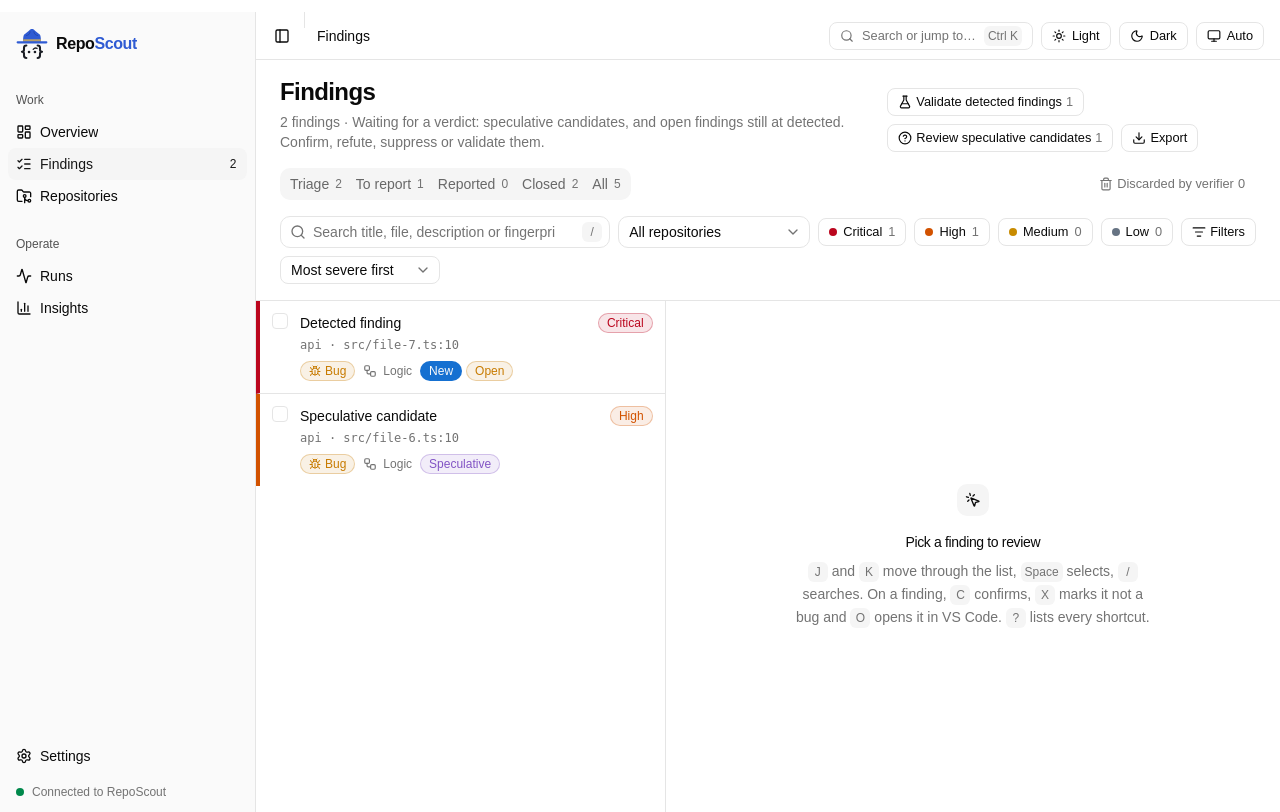
keyboard shortcuts on a finding › leaves letters typed in the search box alone
Click the search field named "Search findings".
click(445, 232)  # box [280,216,610,248]
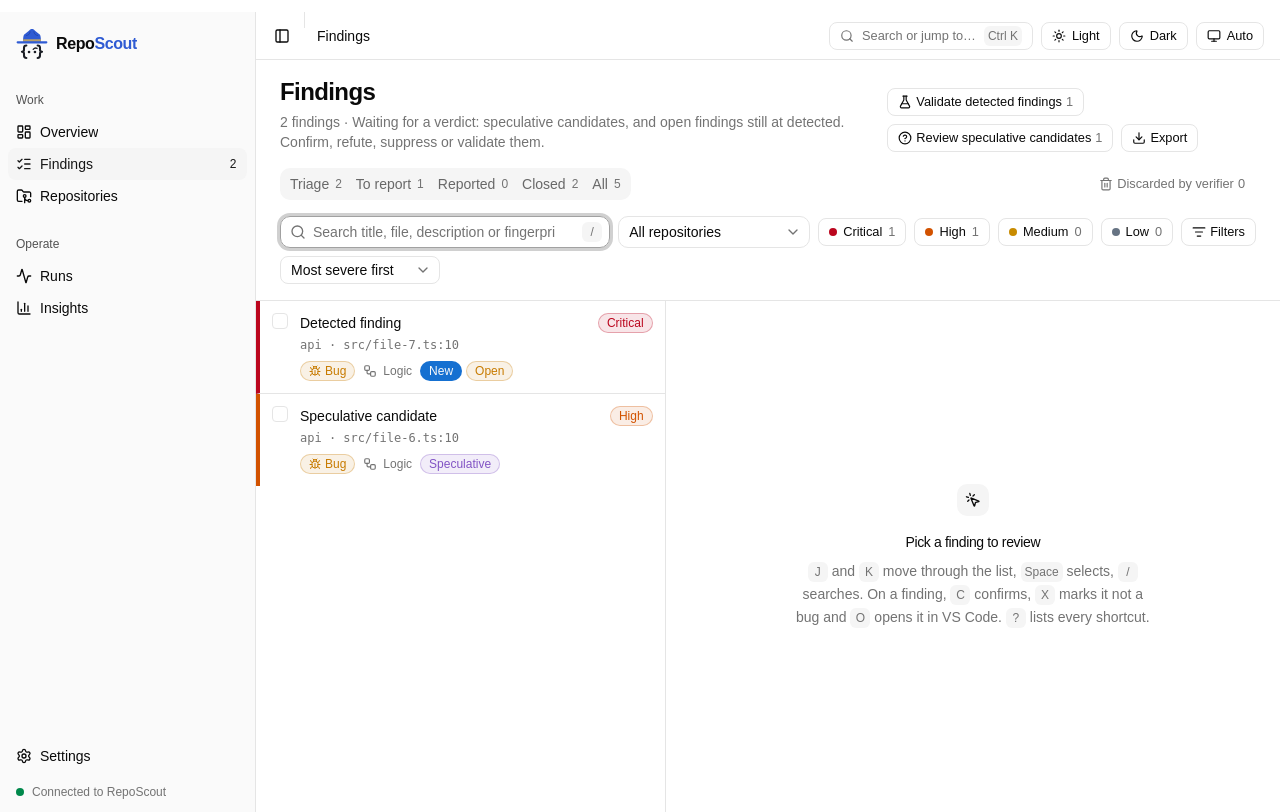
Type keys "j"
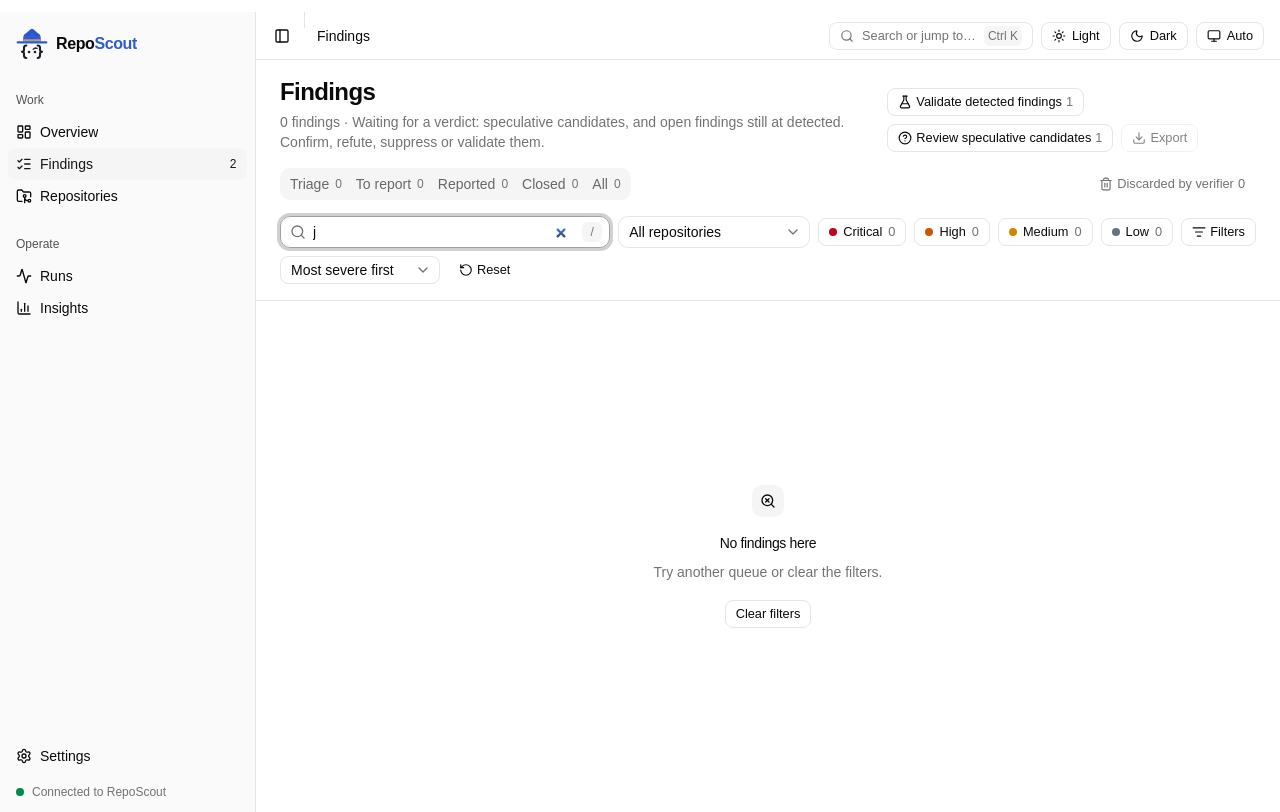
Expected: the search field named "Search findings" holds "j", [280,216,610,248]
